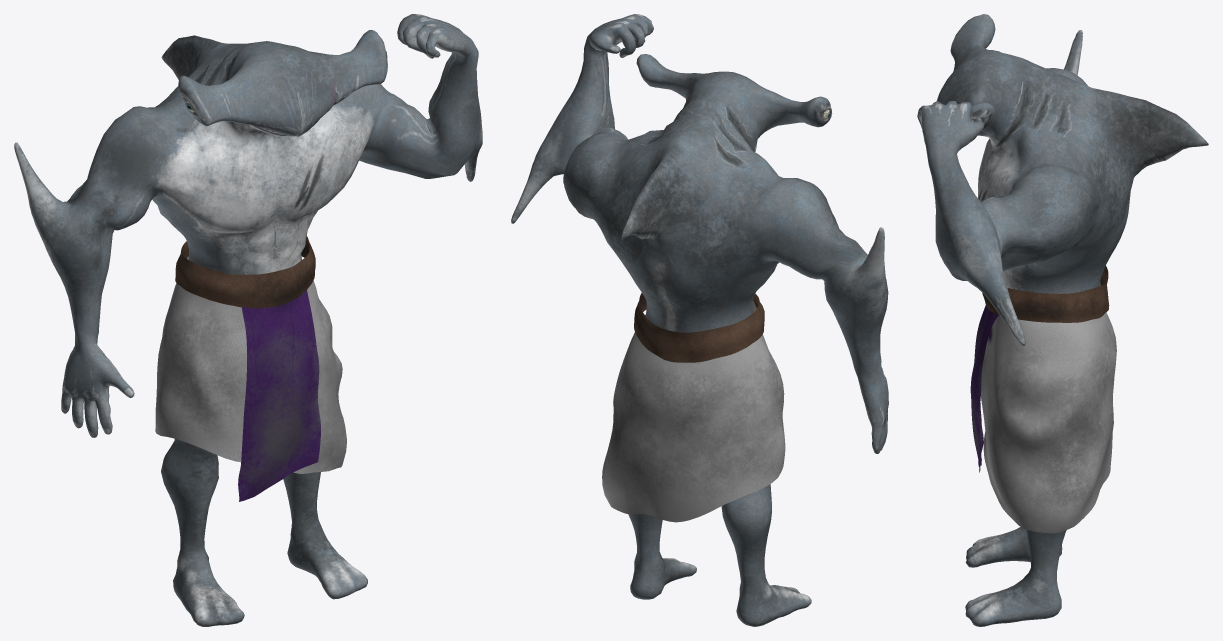
Rendered from Glorious_Shark_Creature.glb.
3 renders of one model, left to right at view 1: azimuth 30°, elevation 25°; view 2: azimuth 150°, elevation 25°; view 3: azimuth 270°, elevation 25°, orthographic. The views are drawn at different scales.
Parts seen in each view (by area): view 1: unnamed (×2); view 2: unnamed (×2); view 3: unnamed (×2).
Boxes of the visible parts, left/top/right/bottom form: unnamed (×2): left=14, top=14, right=482, bottom=626; unnamed (×2): left=511, top=14, right=888, bottom=626; unnamed (×2): left=917, top=14, right=1208, bottom=626.
Bounding box in the file's own units: 70.52 × 89.33 × 43.18.
Materials: 3 (3 with a texture image).
